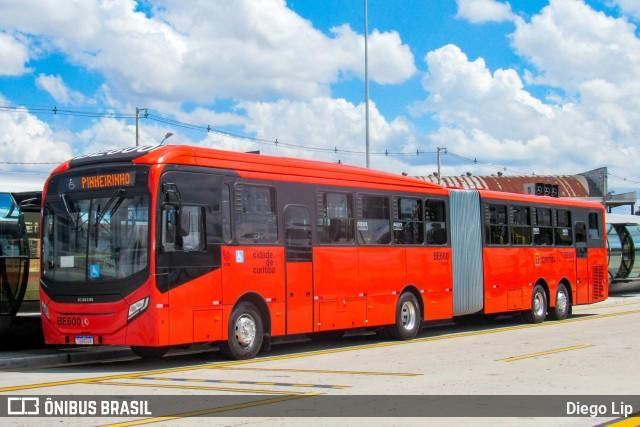PINHEIRINHO: (78, 169, 134, 191)
